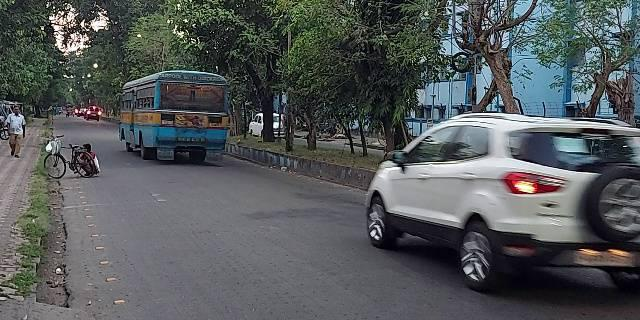Bus: (123, 70, 236, 155)
Car: (370, 116, 626, 281)
Cycle: (43, 132, 72, 182)
